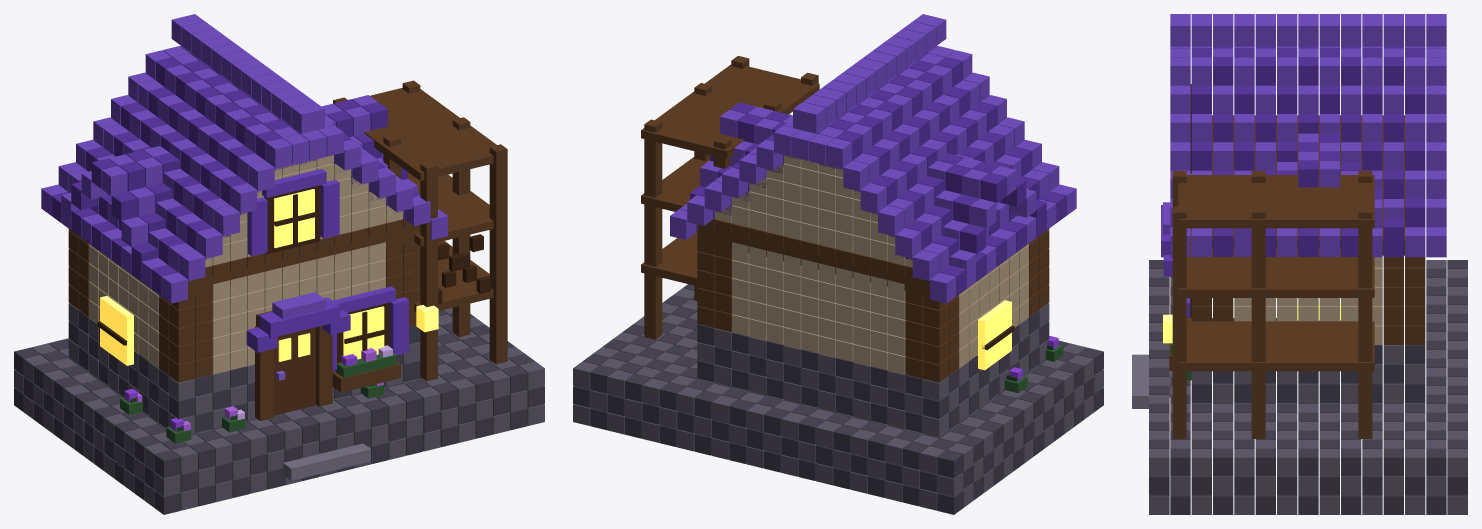
File: cottage-stone.glb
The picture shows the model from 3 angles, left to right: view 1: azimuth 30°, elevation 25°; view 2: azimuth 150°, elevation 25°; view 3: azimuth 270°, elevation 25°; orthographic projection. The views are drawn at different scales.
Parts seen in each view (by area): view 1: roofLight, beam, terraceDark, terrace, roof, plaster, shutter, glass, stoneDark, stone, beamDark, door (+2 smaller); view 2: roofLight, plaster, beam, terraceDark, terrace, roof, stone, stoneDark, glass; view 3: beam, roofLight, terrace, terraceDark, roof, stoneDark, stone, plaster, stoneLight, shutter.
Part boxes in pixels (x1,y1,x2,y2): roofLight: [41, 14, 447, 319]; beam: [68, 80, 507, 420]; terraceDark: [14, 310, 544, 514]; terrace: [14, 308, 544, 510]; roof: [51, 53, 420, 296]; plaster: [89, 155, 403, 374]; shutter: [246, 169, 408, 370]; glass: [100, 189, 384, 365]; stoneDark: [68, 310, 420, 432]; stone: [68, 303, 420, 433]; beamDark: [97, 185, 490, 371]; door: [273, 327, 315, 415]; roofLight: [670, 14, 1076, 303]; plaster: [714, 155, 1028, 374]; beam: [641, 56, 1049, 382]; terraceDark: [573, 284, 1103, 514]; terrace: [573, 288, 1103, 510]; roof: [690, 53, 1066, 296]; stone: [697, 303, 1049, 437]; stoneDark: [697, 310, 1049, 432]; glass: [977, 300, 1011, 370]; beam: [1169, 115, 1425, 438]; roofLight: [1163, 14, 1446, 257]; terrace: [1149, 260, 1467, 514]; terraceDark: [1149, 260, 1467, 514]; roof: [1191, 46, 1425, 257]; stoneDark: [1191, 345, 1425, 402]; stone: [1191, 345, 1425, 402]; plaster: [1234, 257, 1382, 344]; stoneLight: [1132, 354, 1170, 408]; shutter: [1161, 205, 1190, 317].
Bounding box in the file's own units: 3.18 × 2.85 × 2.28.
